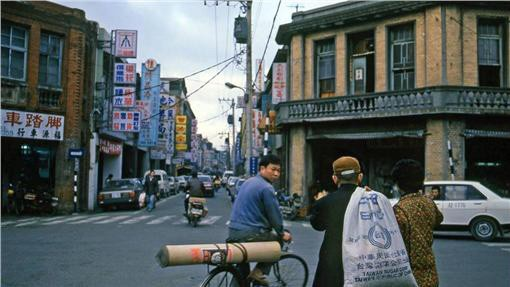people: (390, 162, 443, 285), (326, 162, 378, 287), (234, 157, 289, 265), (185, 170, 208, 215), (139, 169, 159, 211), (426, 175, 441, 205)
